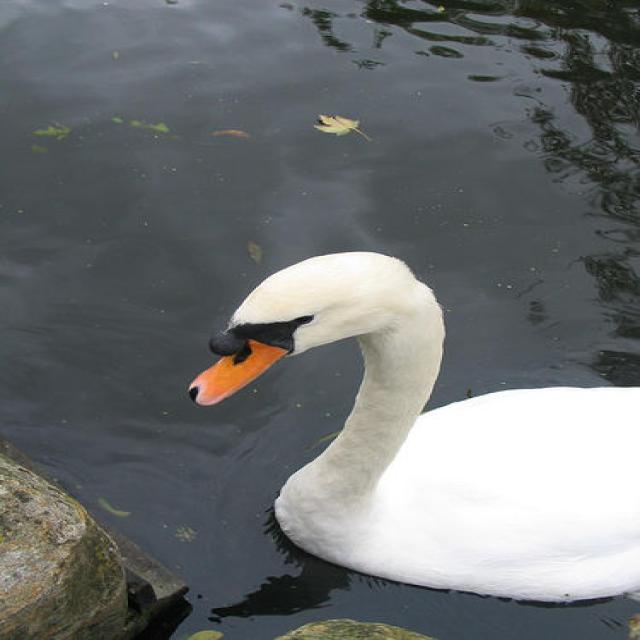bird: (186, 248, 640, 605)
